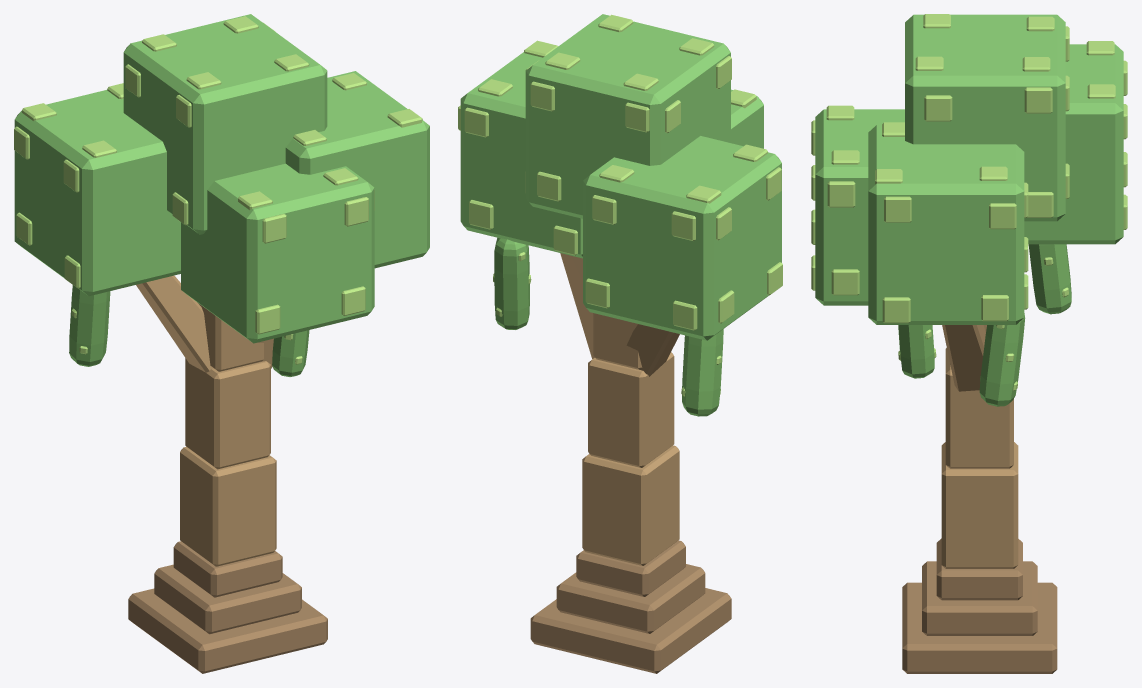
Rendered from FarmCucumberTree.fbx.
3 views of the same model, side by side, from view 1: azimuth 30°, elevation 25°; view 2: azimuth 150°, elevation 25°; view 3: azimuth 270°, elevation 25° (orthographic). The views are drawn at different scales.
Visible parts, largest first — view 1: FarmCucumberTree.Crown, FarmCucumberTree.Trunk, FarmCucumberTree.Base, FarmCucumberTree.Studs, FarmCucumberTree.Cukes; view 2: FarmCucumberTree.Crown, FarmCucumberTree.Trunk, FarmCucumberTree.Base, FarmCucumberTree.Studs, FarmCucumberTree.Cukes; view 3: FarmCucumberTree.Crown, FarmCucumberTree.Base, FarmCucumberTree.Trunk, FarmCucumberTree.Studs, FarmCucumberTree.Cukes.
Part boxes in pixels (x1=…): FarmCucumberTree.Crown: x1=14, y1=14, x2=429, y2=343; FarmCucumberTree.Trunk: x1=136, y1=275, x2=276, y2=566; FarmCucumberTree.Base: x1=128, y1=541, x2=327, y2=673; FarmCucumberTree.Studs: x1=14, y1=16, x2=422, y2=364; FarmCucumberTree.Cukes: x1=69, y1=285, x2=309, y2=376; FarmCucumberTree.Crown: x1=460, y1=14, x2=781, y2=340; FarmCucumberTree.Trunk: x1=560, y1=253, x2=679, y2=565; FarmCucumberTree.Base: x1=530, y1=540, x2=731, y2=673; FarmCucumberTree.Studs: x1=458, y1=14, x2=782, y2=396; FarmCucumberTree.Cukes: x1=494, y1=237, x2=723, y2=416; FarmCucumberTree.Crown: x1=815, y1=14, x2=1123, y2=324; FarmCucumberTree.Base: x1=902, y1=538, x2=1057, y2=673; FarmCucumberTree.Trunk: x1=941, y1=325, x2=1018, y2=568; FarmCucumberTree.Studs: x1=811, y1=14, x2=1127, y2=391; FarmCucumberTree.Cukes: x1=898, y1=244, x2=1071, y2=406.
Size of the model in its own units: 6.58 by 11.91 by 5.67.
